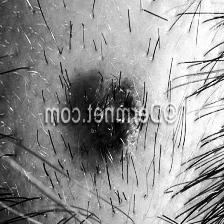Potentially Malignant Skin Tumors: (68, 46, 142, 102), (72, 128, 132, 173)
